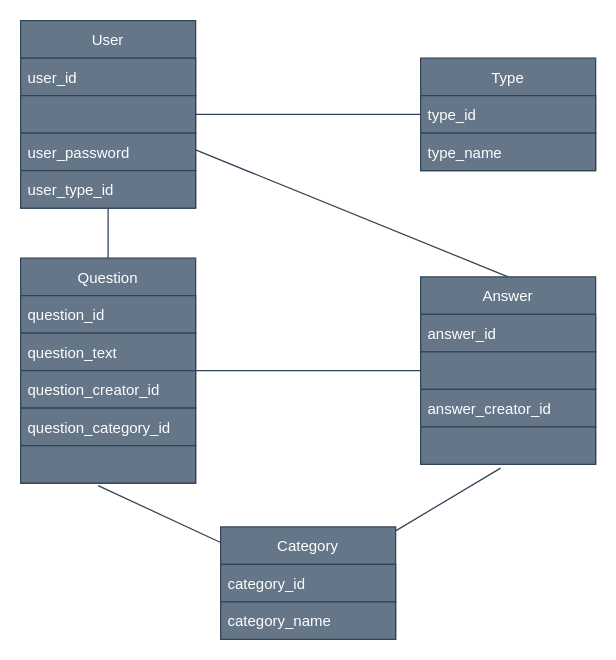
Some shapes in this 616 by 660 pixel diagram are drawn without their labels. The centre of each missing label's shape, as x and y in pixels:
"answer_category_id" belongs at [507,445].
"answer_text" belongs at [507,370].
"question_answer_id" belongs at [107,463].
"user_name" belongs at [107,113].
